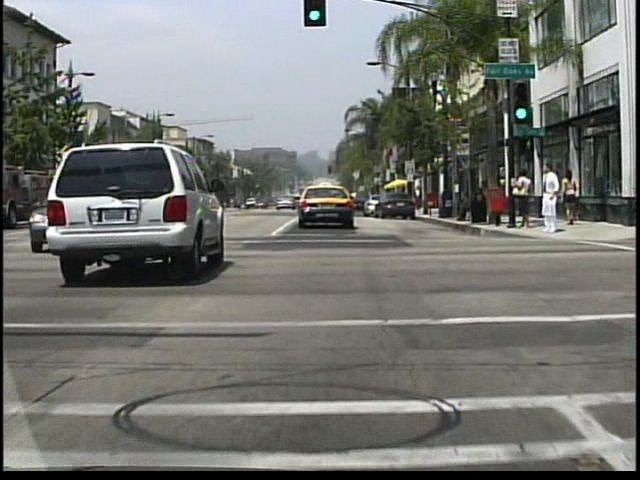person: (540, 163, 562, 234), (514, 166, 533, 233), (560, 169, 578, 226), (455, 188, 476, 222), (477, 179, 488, 220), (414, 186, 424, 213)
